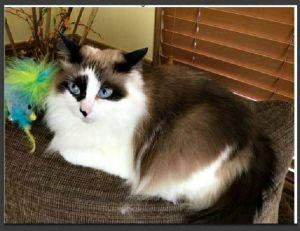ragdoll: (53, 28, 150, 132)
